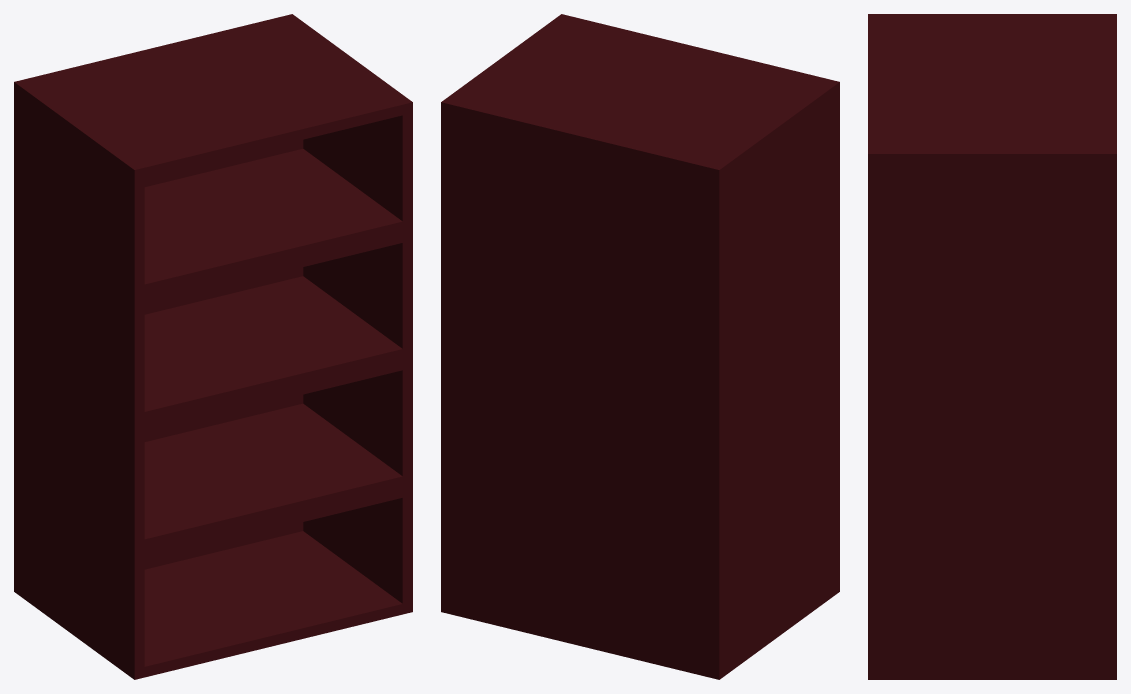
The model's file is Bookshelf.fbx.
3 renders of one model, left to right at view 1: azimuth 30°, elevation 25°; view 2: azimuth 150°, elevation 25°; view 3: azimuth 270°, elevation 25°, orthographic. The views are drawn at different scales.
Visible parts, largest first — view 1: Bookshelf; view 2: Bookshelf; view 3: Bookshelf.
Part boxes in pixels (bbox=[...]): Bookshelf: bbox=[14, 14, 412, 679]; Bookshelf: bbox=[441, 14, 839, 679]; Bookshelf: bbox=[868, 14, 1116, 679].
Bounding box in the file's own units: 100 × 175 × 75.
